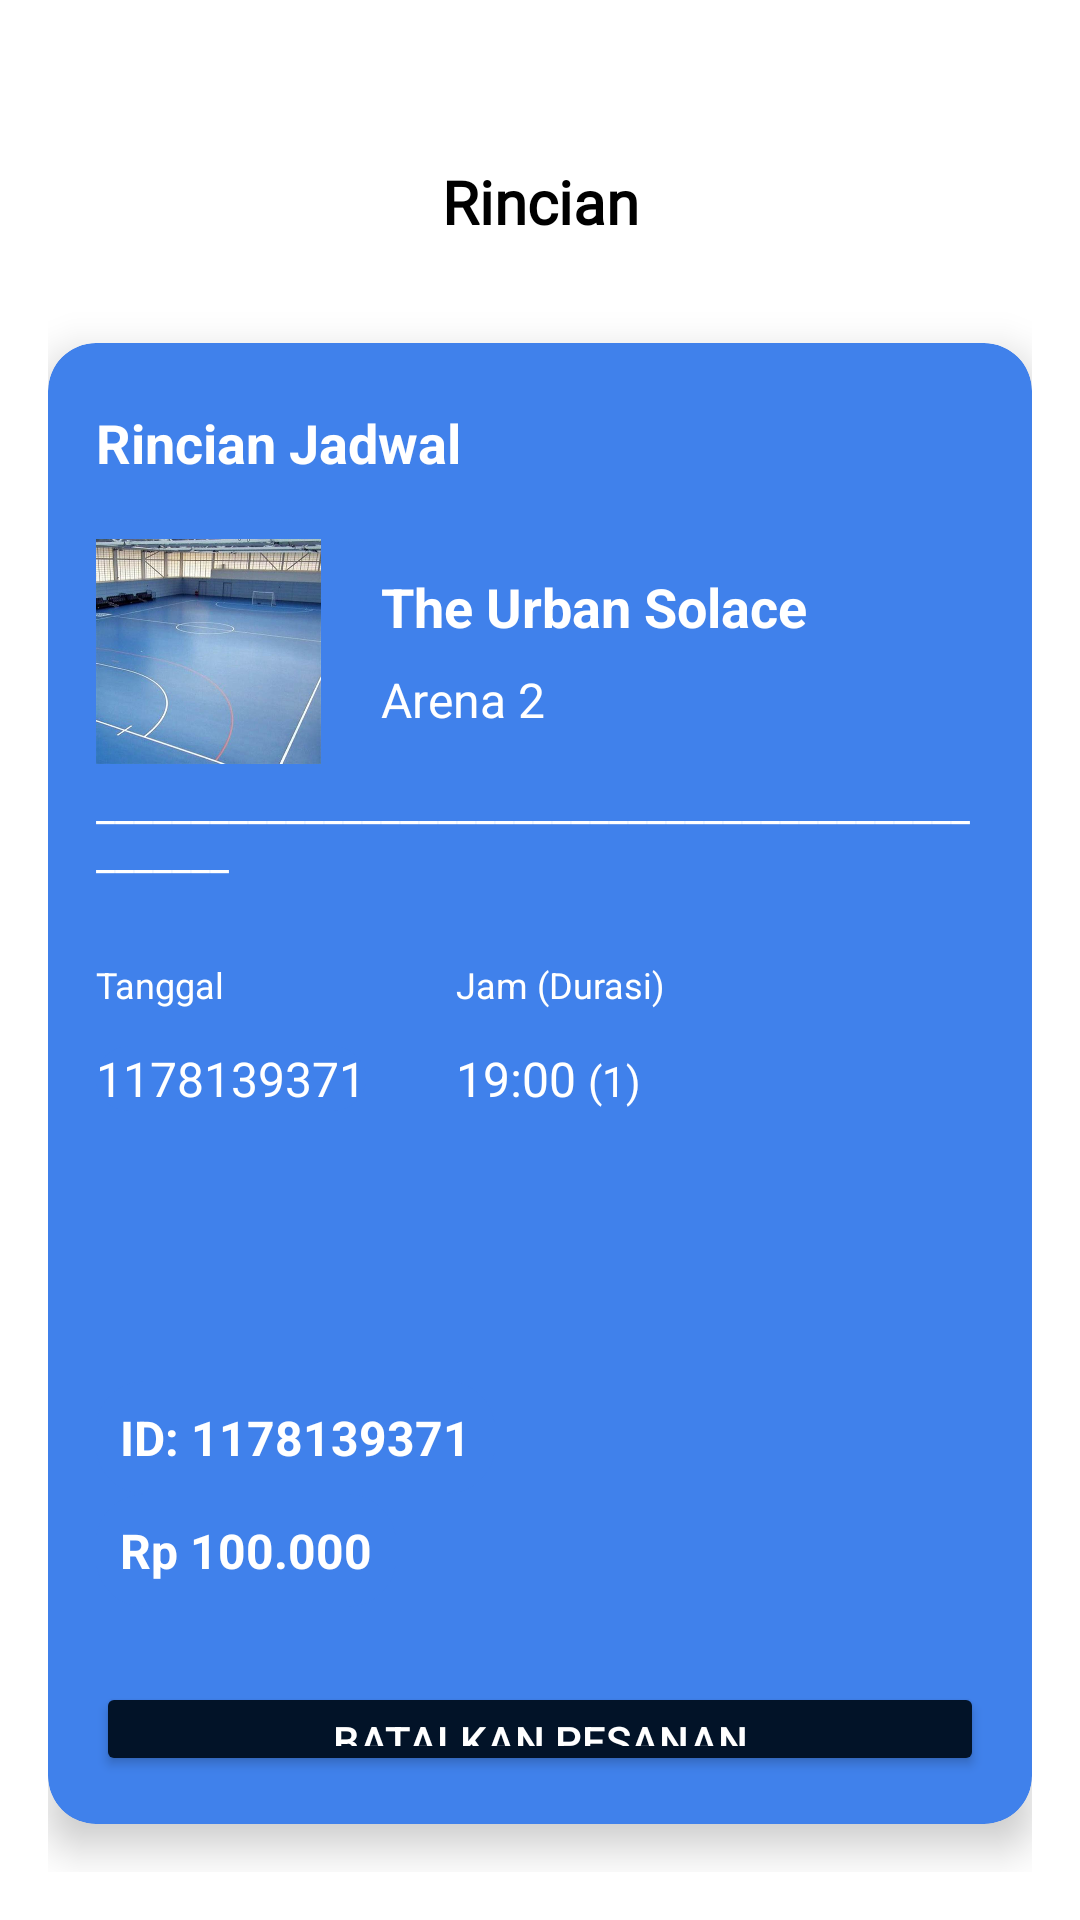

Named icons in this screenshot (1080w x 1920h) and their bounding boxes, (x1, y1, x2, y2):
venue: (96, 539, 321, 764)
